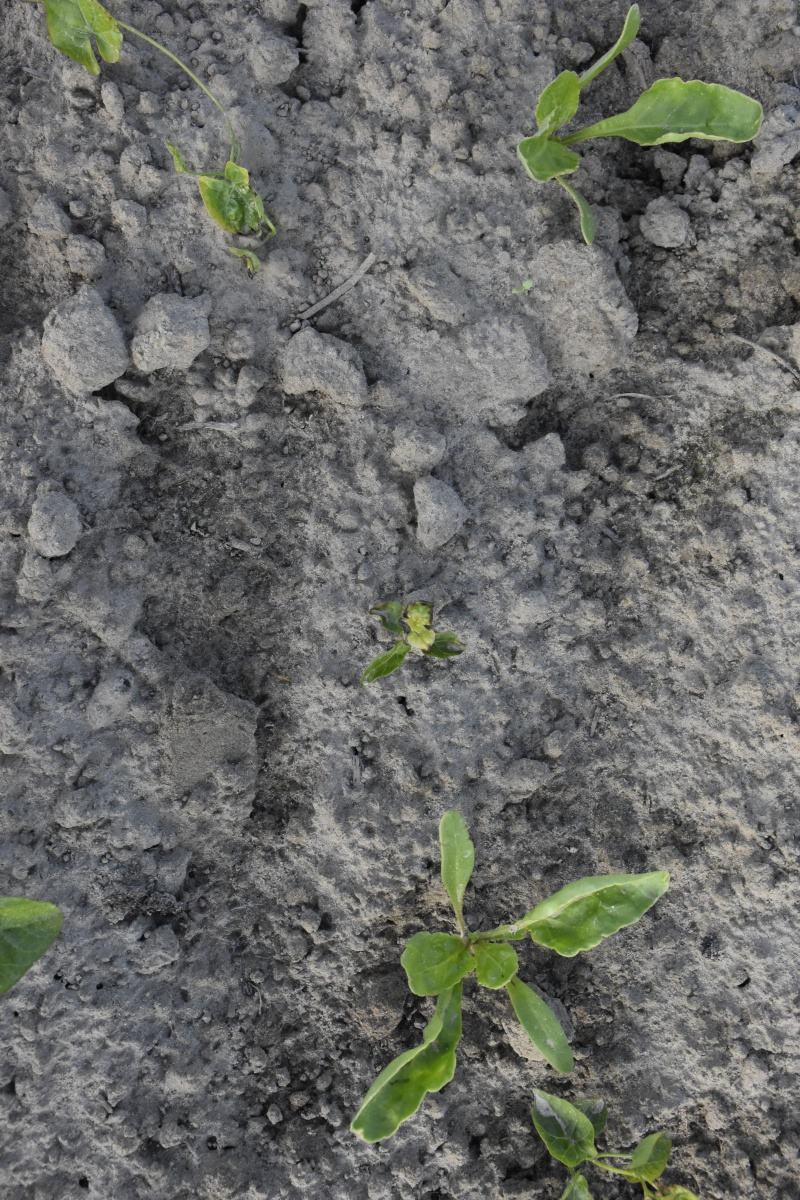field bindweed: (45, 1, 276, 269), (524, 1092, 698, 1200), (357, 612, 460, 689)
sugar beet: (301, 805, 680, 1149), (510, 6, 766, 242)
